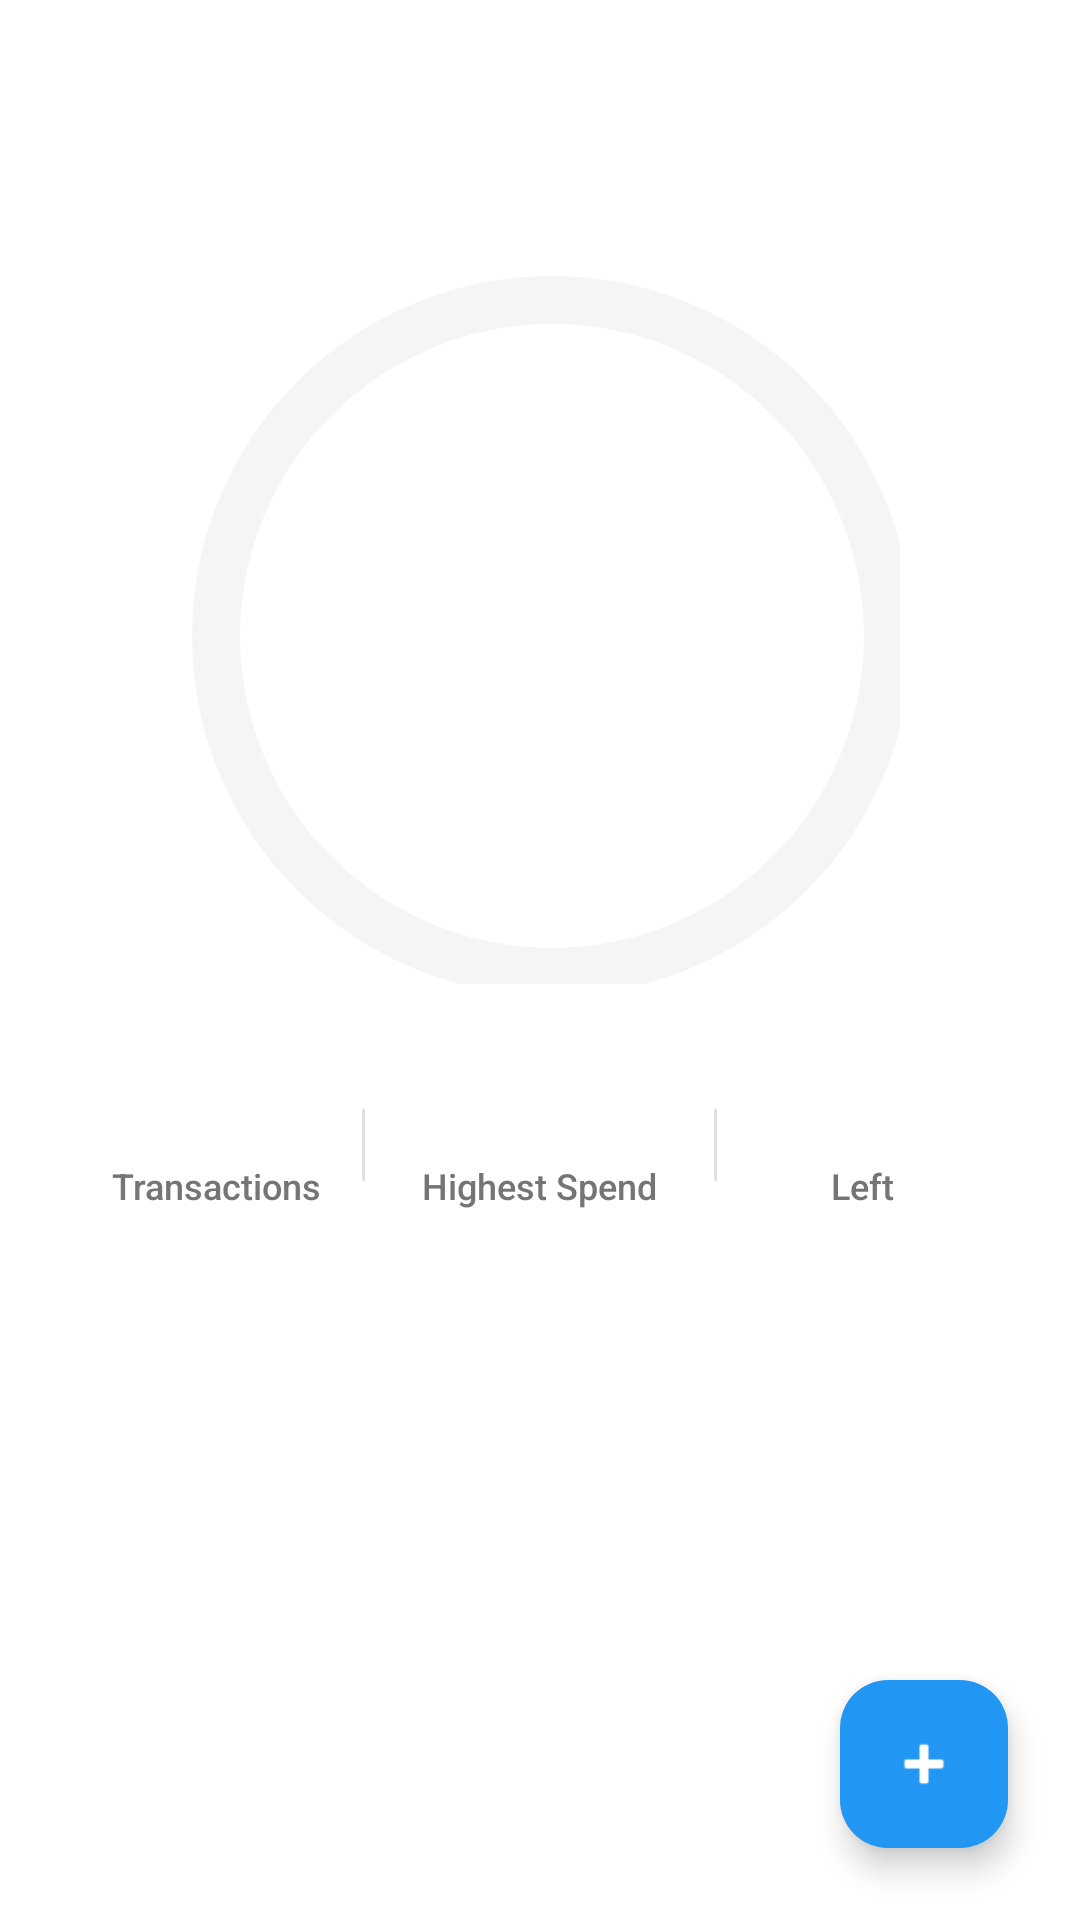

Named icons in this screenshot (1080 x 1920) and their centers, [x,y]:
Add Expense: [924,1764]
